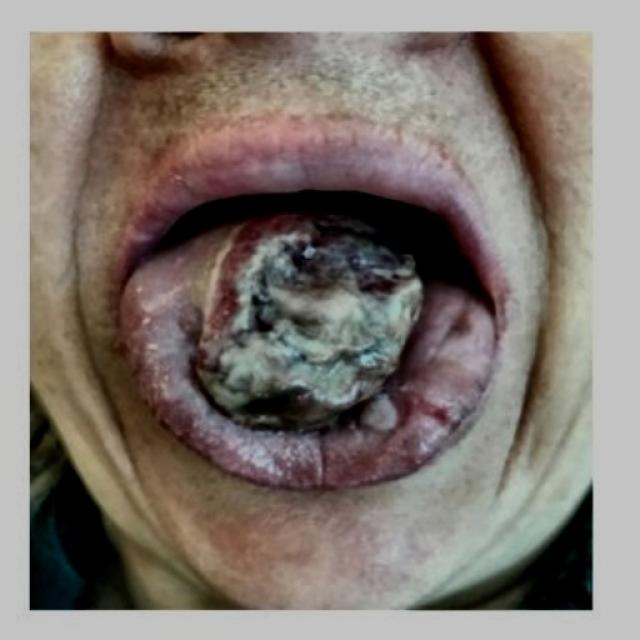cancer-detection: (191, 205, 429, 432)
processing_area: (104, 214, 498, 484)
